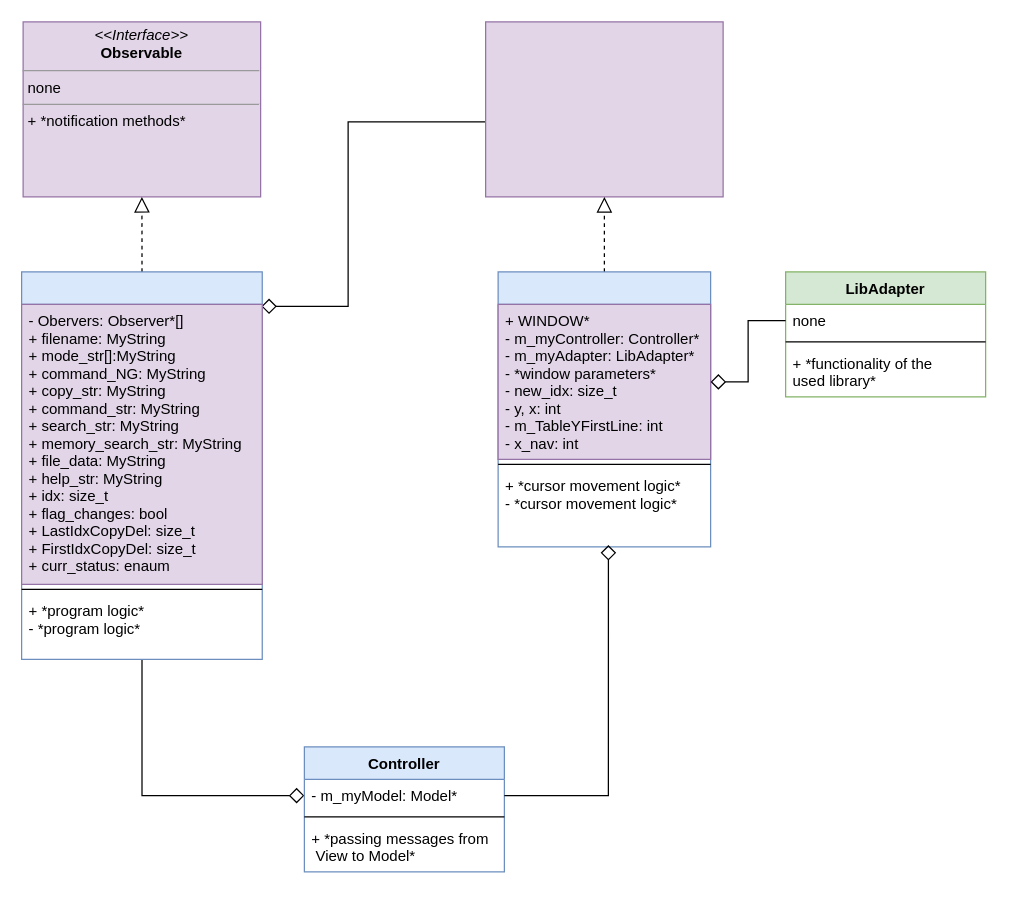
Some shapes in this 1009 by 898 pixel diagram are drawn without their labels. Each missing label, with the box of its shape:
<<Interface>> Observer none + *event methods*: (484, 21, 723, 197)
Model: (20, 271, 262, 659)
View: (497, 271, 711, 547)
